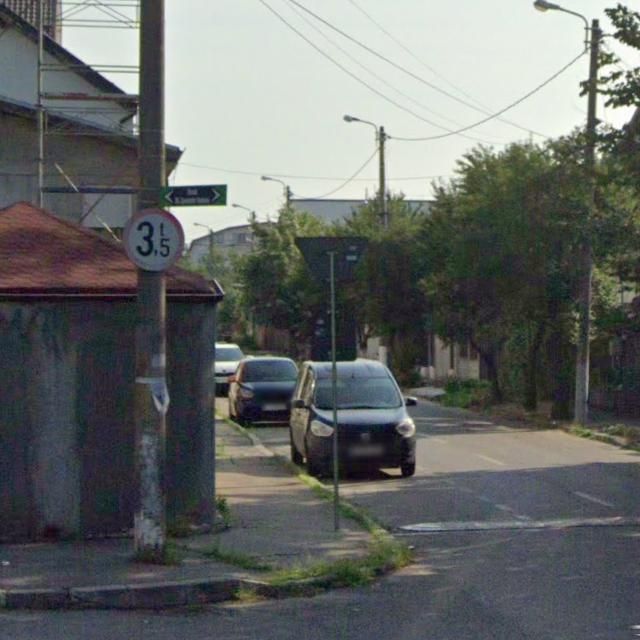forb_weight_over_3.5t: (122, 206, 184, 270)
